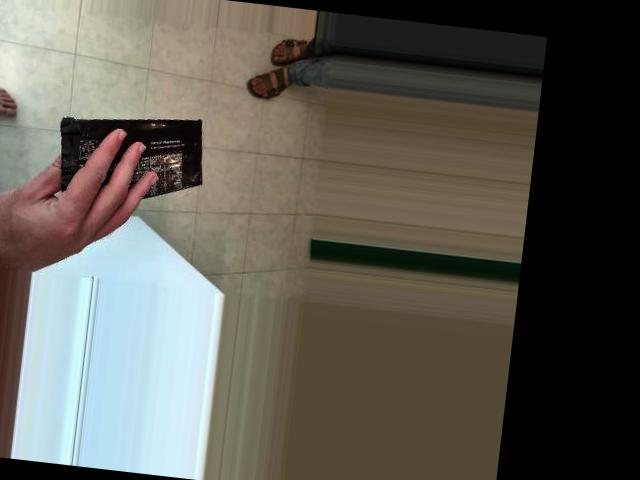chocolate: (116, 11, 250, 189)
